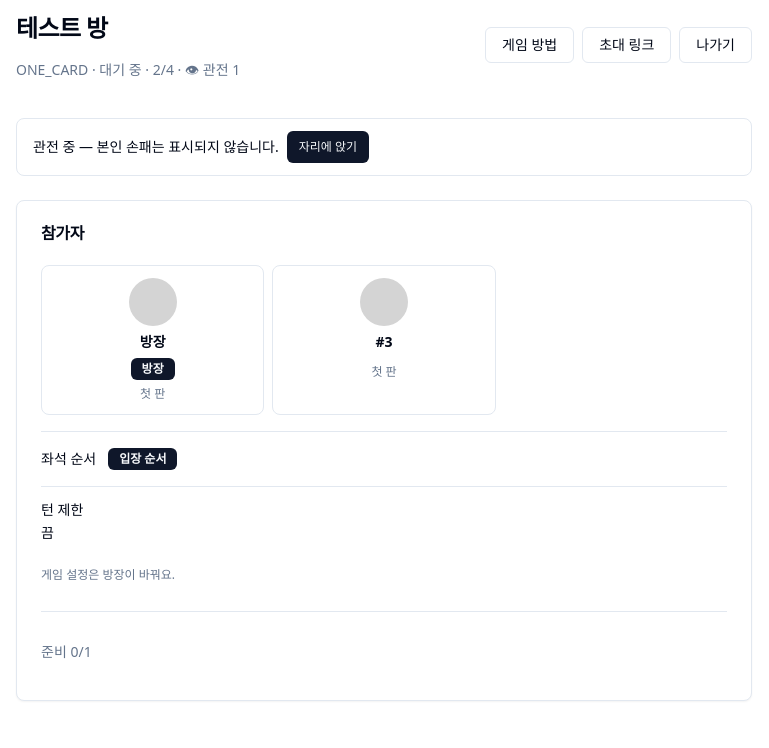
RoomPage — 관전자 자리에 앉기 (D-137) › 빈자리가 있는 대기실을 관전 중이면 [자리에 앉기] — 누르면 입장하고 내 자리가 된다
Step 1. Click the button "자리에 앉기" → (328, 147), box [287,131,369,163]
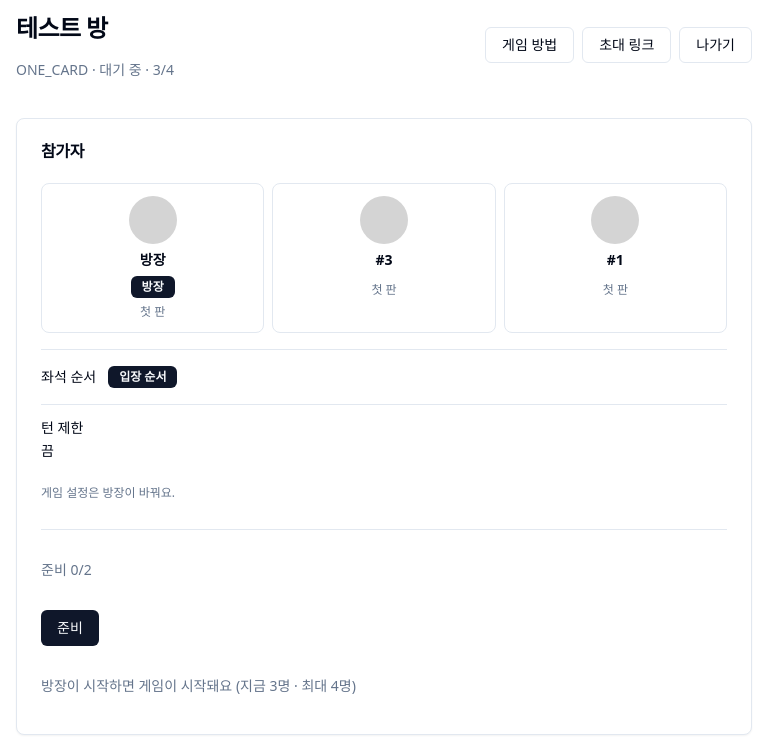
Expected: the button "자리에 앉기" is gone
Expected: the text "방장이 시작하면 게임이 시작돼요 (지금 3명 · 최대 4명)" is shown, [41,676,356,695]
